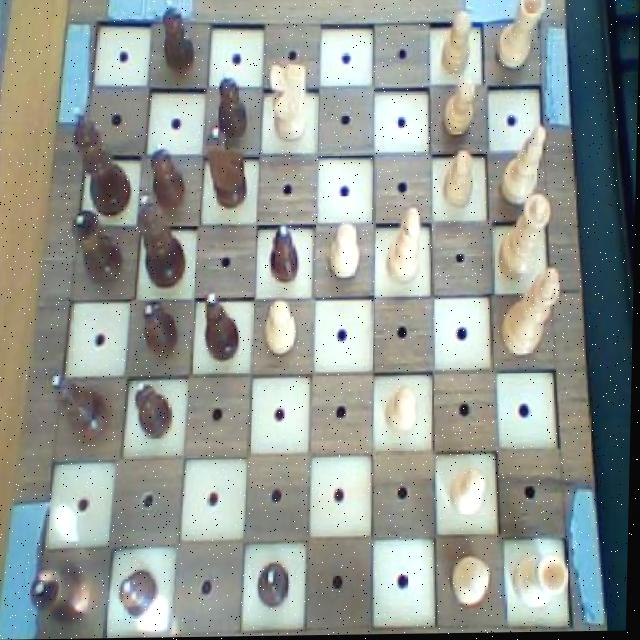bishop: (49, 371, 114, 448), (200, 286, 246, 367)
black-bishop: (67, 100, 134, 220)
black-king: (203, 125, 252, 211)
black-knight: (144, 137, 192, 214), (159, 0, 203, 78), (131, 379, 177, 443), (213, 65, 251, 140), (117, 562, 162, 622), (141, 298, 183, 361), (267, 221, 306, 287), (255, 561, 294, 613)
black-pawn: (134, 193, 190, 290)
black-queen: (69, 205, 127, 290), (30, 556, 97, 625)
black-rook: (498, 123, 552, 213), (383, 202, 430, 294)
white-bishop: (497, 266, 566, 364)
white-king: (266, 58, 315, 149)
white-knight: (448, 551, 496, 610), (441, 147, 481, 215), (437, 76, 478, 141), (446, 467, 492, 524), (327, 219, 363, 284), (440, 10, 475, 75), (383, 381, 423, 437), (263, 298, 298, 359)
white-pawn: (498, 193, 557, 286)
white-queen: (510, 548, 574, 617), (492, 0, 546, 77)
